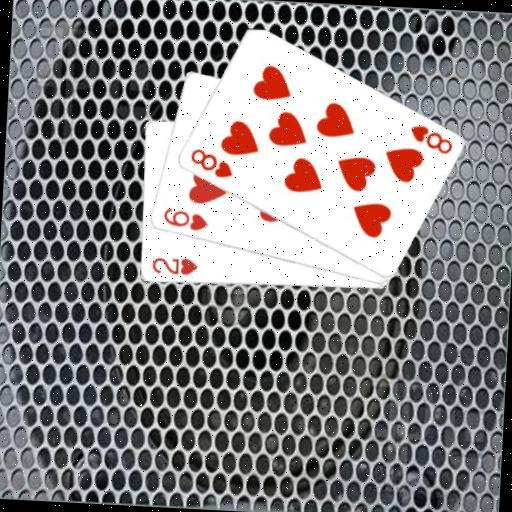2H: (148, 254, 200, 278)
6H: (160, 205, 210, 234)
8H: (186, 145, 236, 180), (406, 122, 455, 156)
